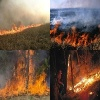fire: (0, 51, 50, 98), (67, 54, 100, 95), (50, 20, 100, 46), (0, 22, 47, 35)
